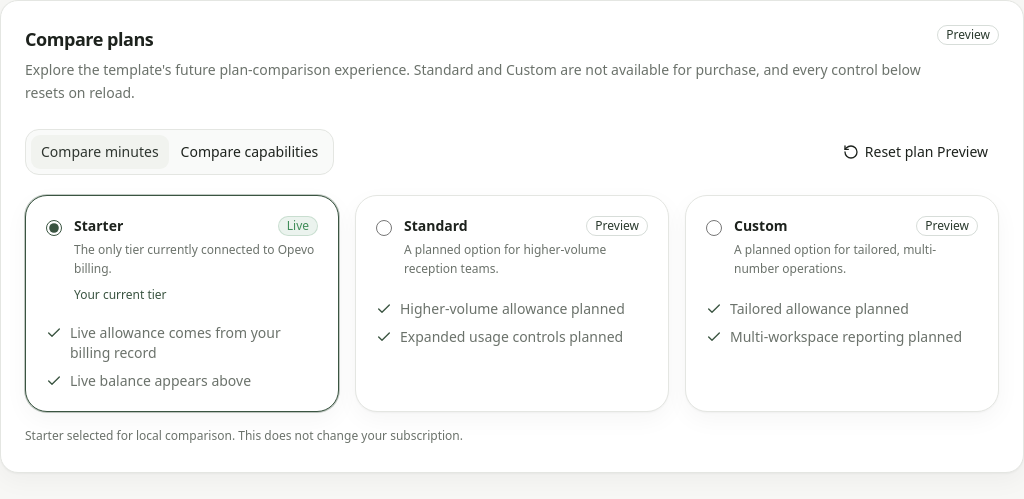
Scenario: billing page › keeps unsupported plan comparison visibly local-only and non-purchasable
Expected: the text "Preview" in the row of "Compare plans" is shown, [937,25,999,45]
Expected: the element named "Plan comparison Preview" shows "not available for purchase", [25,60,921,102]
Click the radio button labelled "Standard" at coordinates (384, 228), box [376,220,392,236]
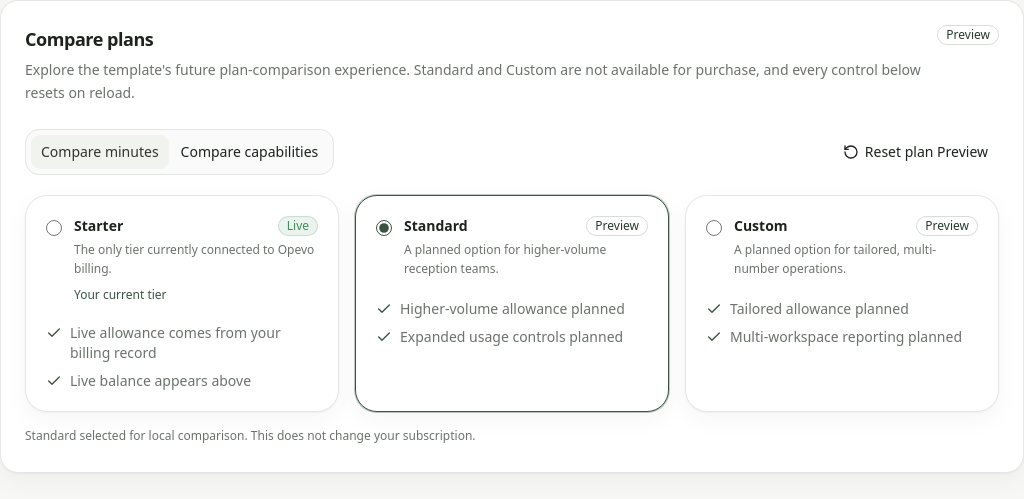
Expected: the message named "Plan comparison status" shows "Standard selected for local comparison", [25,426,476,444]
Click the button "Compare capabilities" at coordinates (249, 152), box [170,134,329,170]
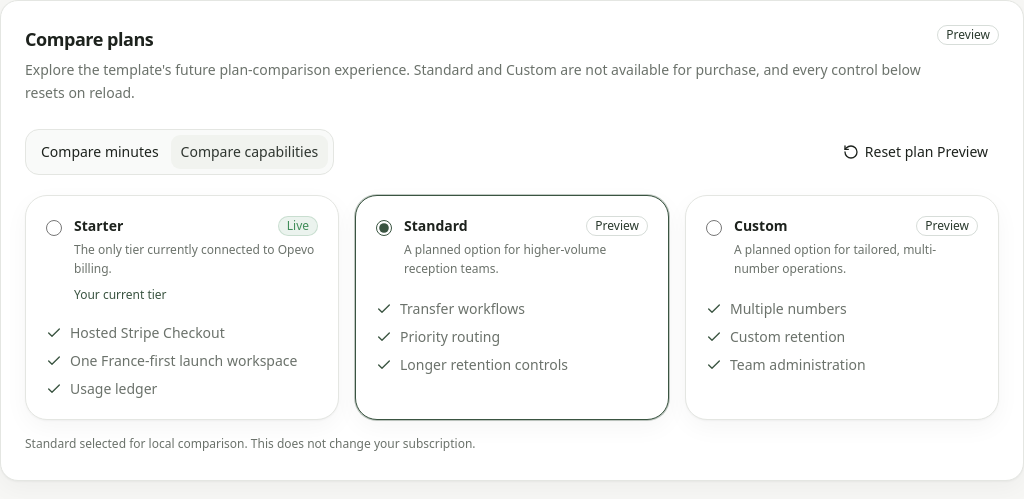
Click the button "Reset plan Preview" at coordinates (916, 152), box [834,130,999,174]
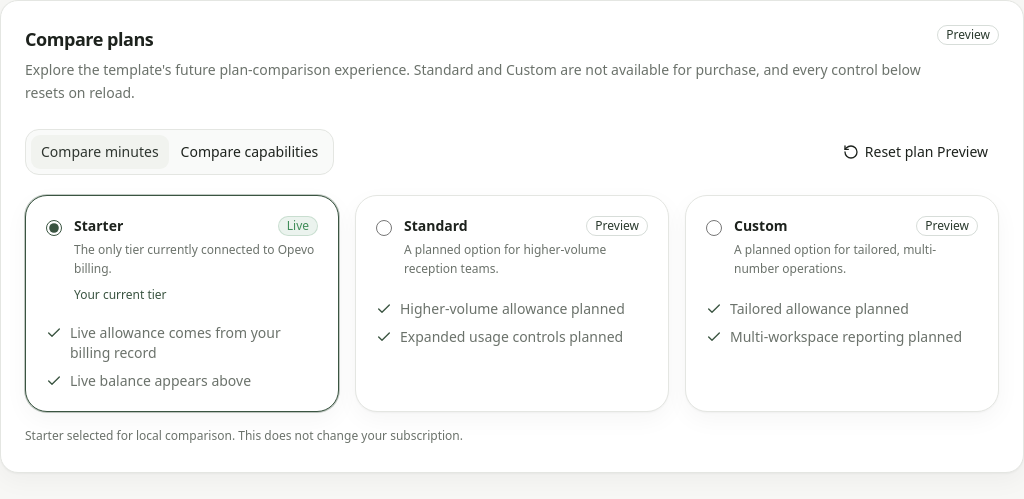
Expected: the radio button labelled "Starter" is checked, [46,220,62,236]
